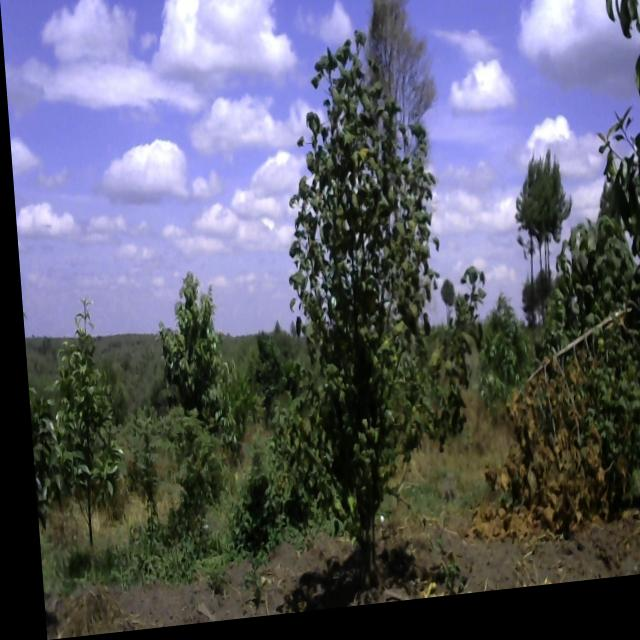Hass Avocado: (37, 277, 119, 547), (18, 294, 53, 524)
cedrus: (512, 153, 573, 312)
other: (267, 55, 456, 576), (541, 227, 639, 386), (149, 263, 225, 425)
